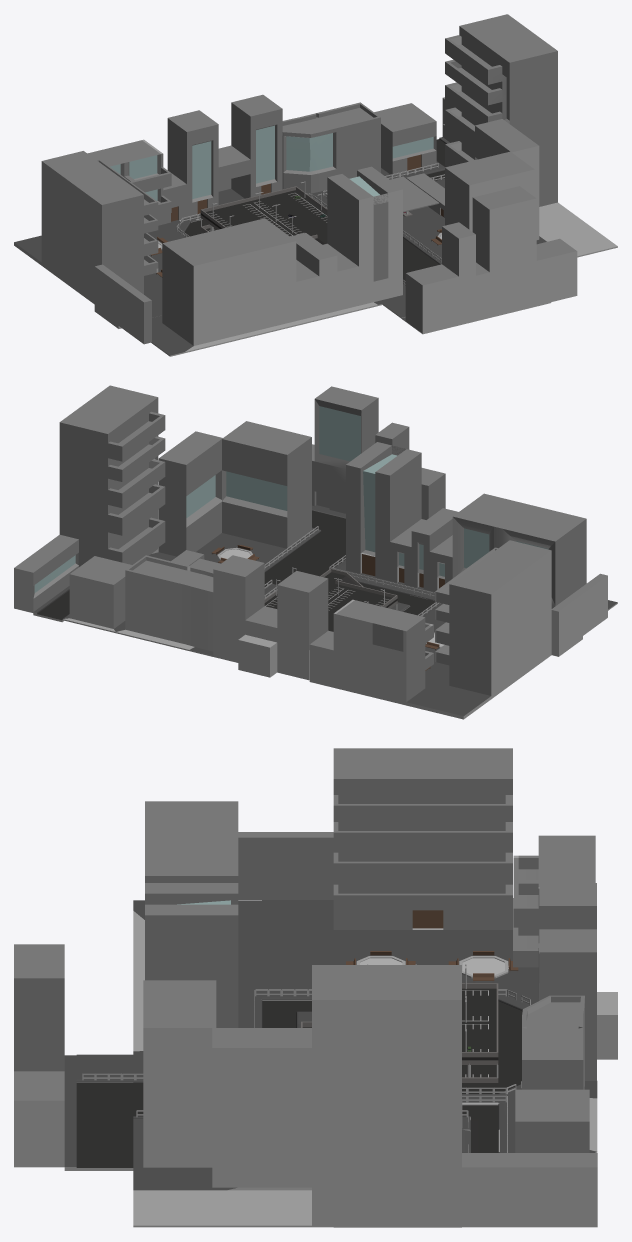
File: map01.fbx
3 views of the same model, one above another, from view 1: azimuth 30°, elevation 25°; view 2: azimuth 150°, elevation 25°; view 3: azimuth 270°, elevation 25° (orthographic). The views are drawn at different scales.
Parts seen in each view (by area): view 1: polySurface138, Floor, pCube3, polySurface278, Slots; view 2: polySurface138, Floor, polySurface278; view 3: polySurface138, Floor, polySurface278, polySurface137.
Boxes of the visible parts, x1=… form: polySurface138: x1=14, y1=14, x2=617, y2=356; Floor: x1=200, y1=190, x2=327, y2=244; pCube3: x1=390, y1=176, x2=439, y2=212; polySurface278: x1=176, y1=163, x2=444, y2=284; Slots: x1=209, y1=193, x2=327, y2=236; polySurface138: x1=14, y1=385, x2=617, y2=719; Floor: x1=264, y1=572, x2=397, y2=631; polySurface278: x1=211, y1=526, x2=440, y2=616; polySurface138: x1=14, y1=748, x2=617, y2=1227; Floor: x1=302, y1=988, x2=498, y2=1077; polySurface278: x1=82, y1=989, x2=530, y2=1152; polySurface137: x1=448, y1=951, x2=518, y2=982.
Size of the model in its own units: 477 by 156 by 367.
Materials: 13 (3 with a texture image).
